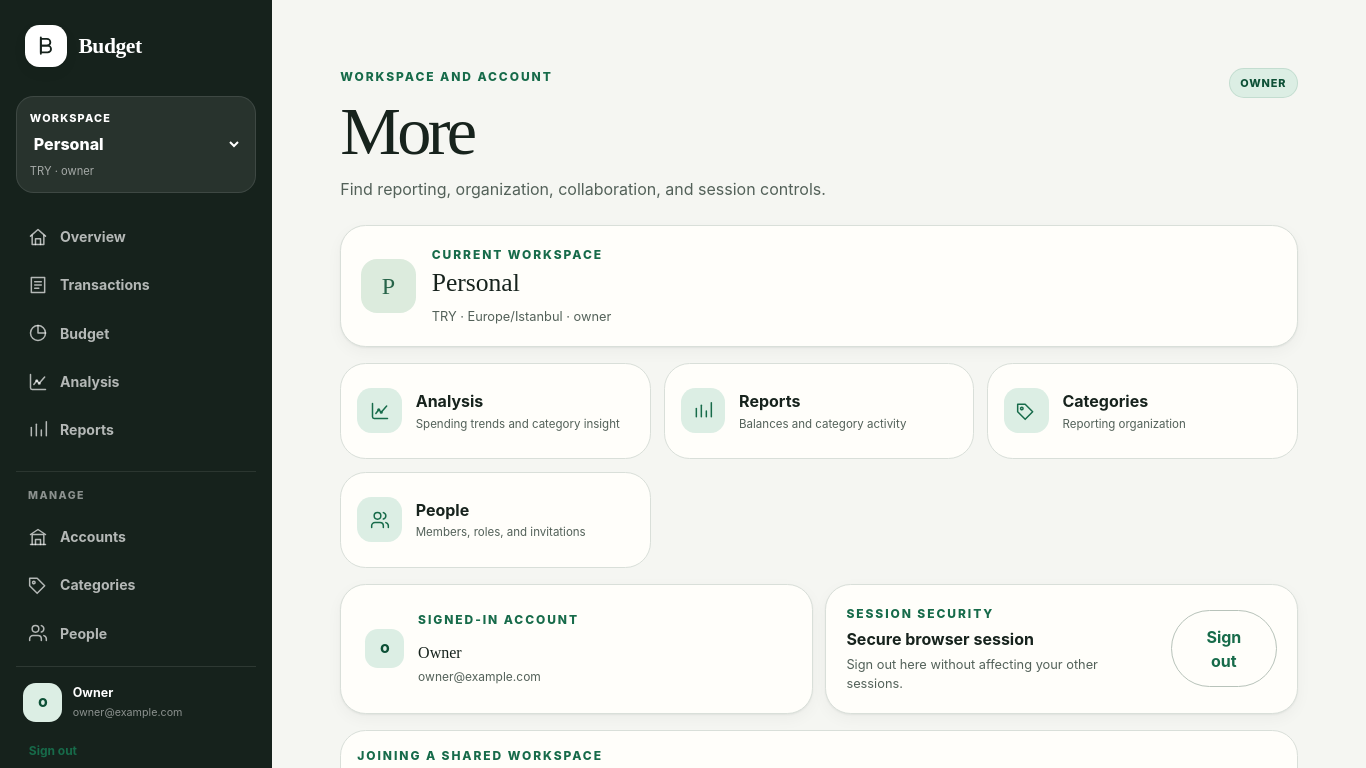
Test: marks the revoked session absent before routing to sign in
Expected: the heading "More" is shown, [340,93,473,169]
Click the button "Sign out" below "Accounts". click: (53, 751)
box: [23,733,83,767]
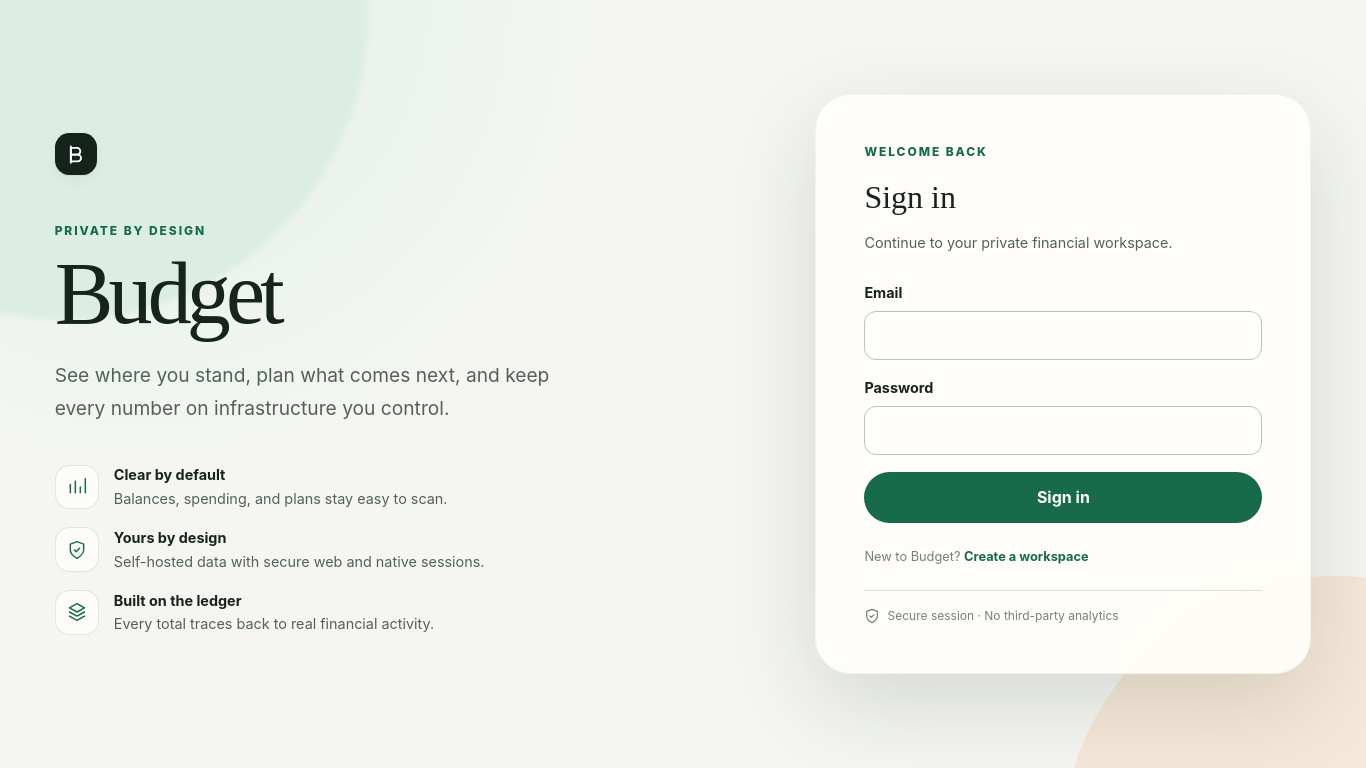
Now the text "Sign in" is shown, box [864,179,956,215]
